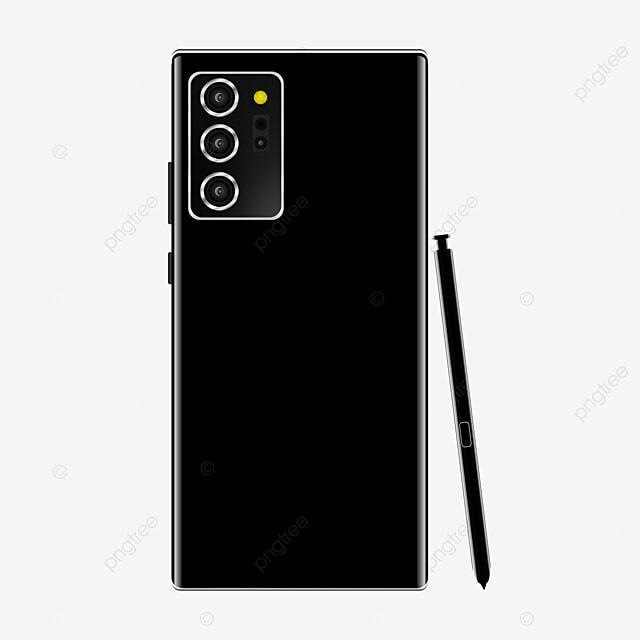phone: (163, 46, 430, 593)
